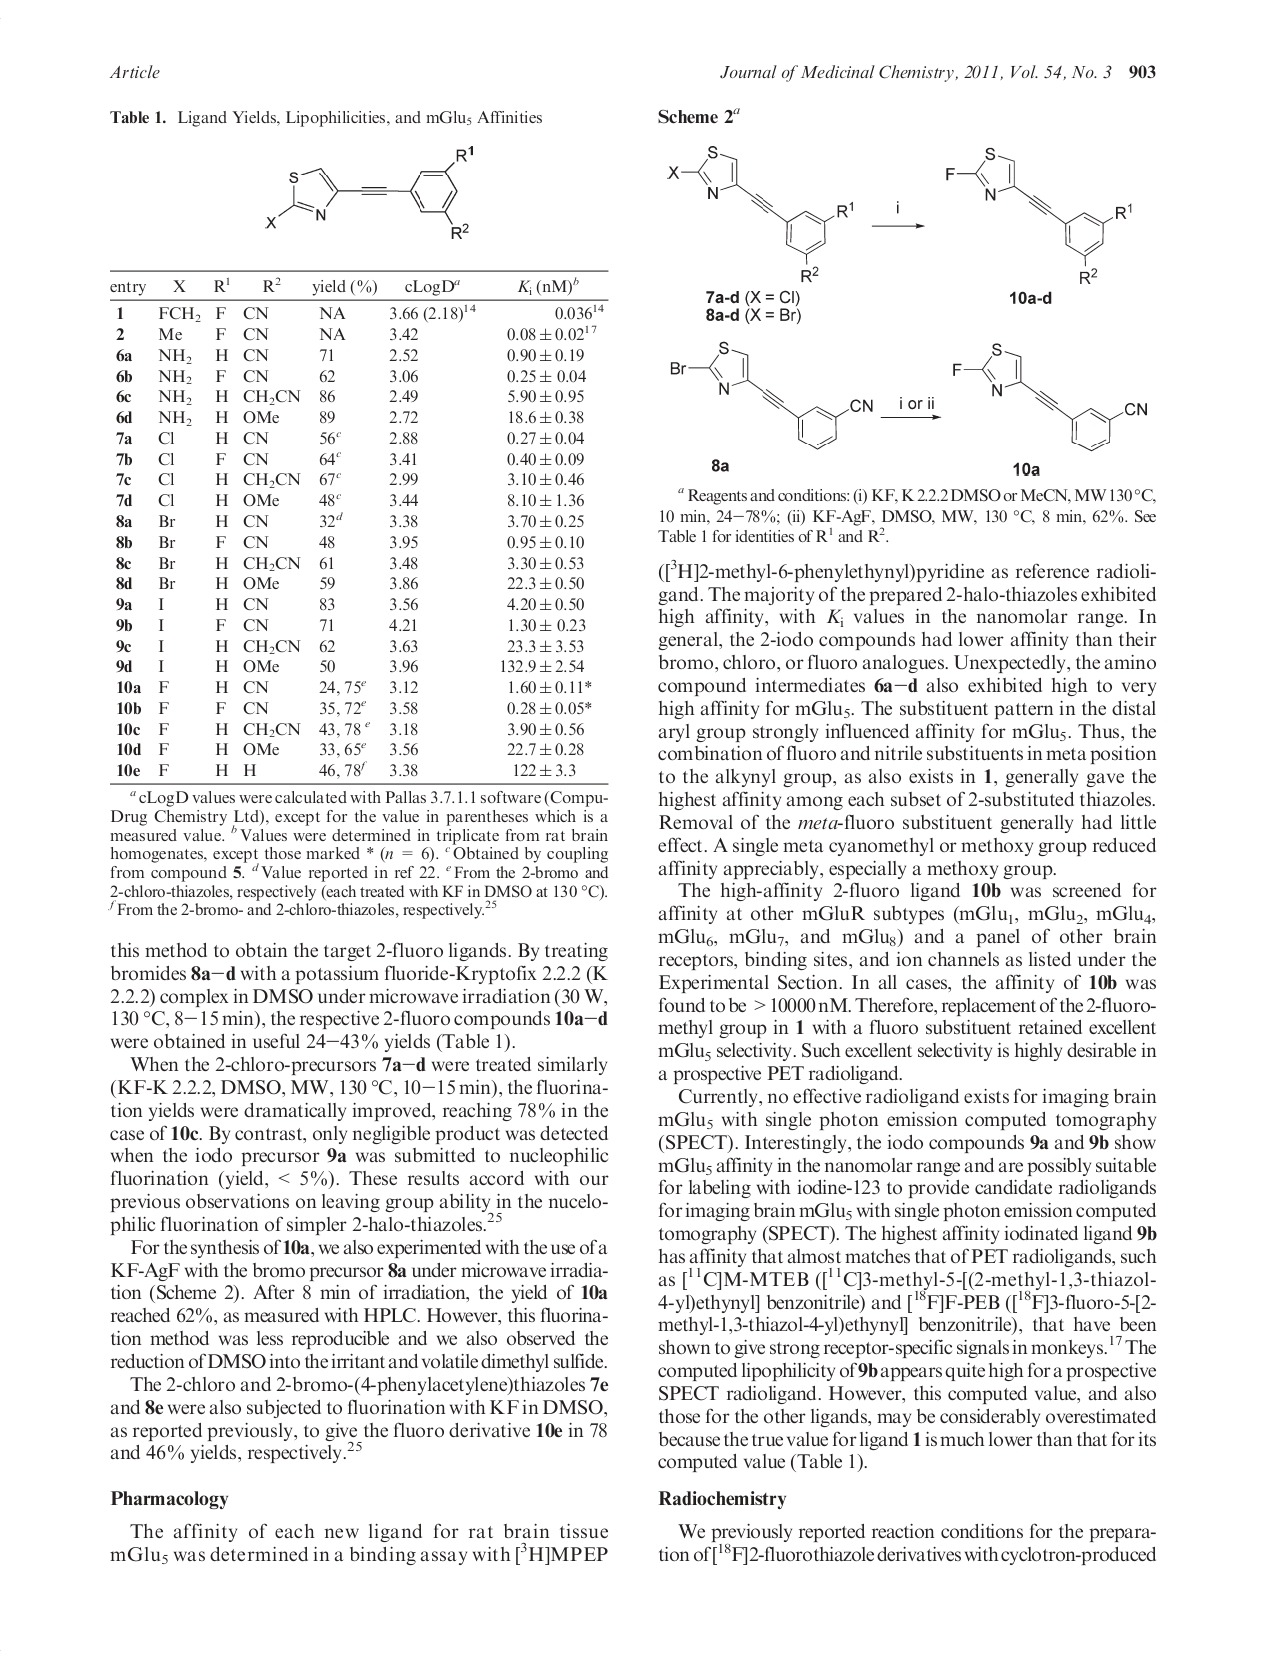exist_molecular: (943, 144, 1137, 287), (662, 144, 856, 286), (661, 336, 875, 453), (948, 339, 1150, 455), (258, 142, 481, 243)
